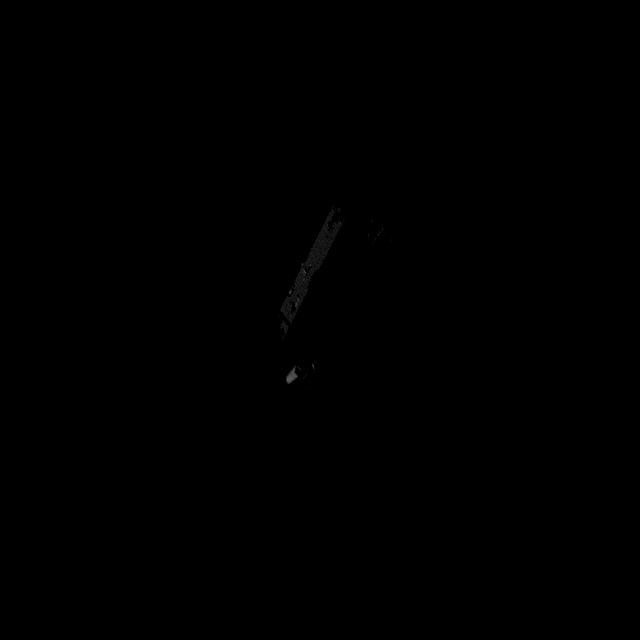satellite: (252, 192, 412, 450)
